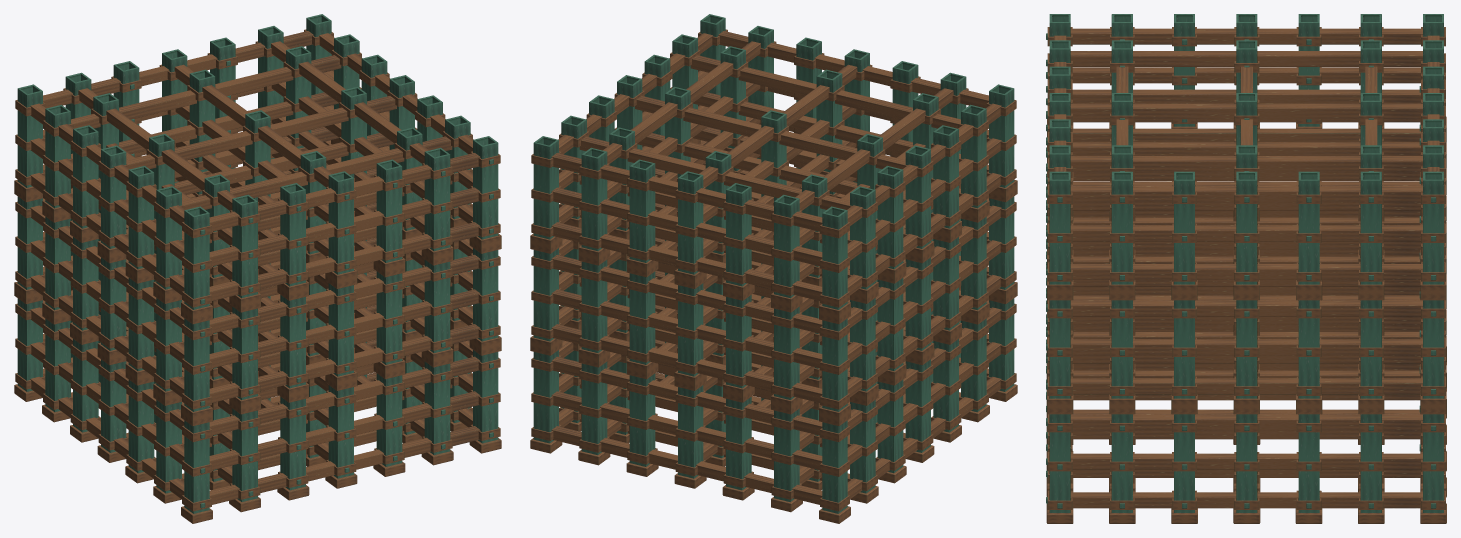
3 views of the same model, side by side, from view 1: azimuth 30°, elevation 25°; view 2: azimuth 150°, elevation 25°; view 3: azimuth 270°, elevation 25° (orthographic). The views are drawn at different scales.
Visible parts, largest first — view 1: Tier 2 internal tie 0-0-0-0.84, Tier 2 internal tie 0-0.56-0-0.84, Tier 2 internal tie 0--0.56-0-0.84, Tier 2 tie 0-0-0.84, Tier 0 tie 0-0-0.5, Tier 1 tie 0-0-0.5, Tier 2 tie 0-0-0.16, Tier 2 tie 0-0-0.5, Tier 1 tie 0-0-0.16, Tier 0 tie 0-0-0.16, Tier 0 tie 0-0-0.84, Tier 1 tie 0-0-0.84 (+86 smaller); view 2: Tier 2 internal tie 0-0-0-0.84, Tier 2 internal tie 0--0.56-0-0.84, Tier 2 internal tie 0-0.56-0-0.84, Tier 2 tie 2-0-0.84, Tier 0 tie 2-0-0.5, Tier 1 tie 2-0-0.5, Tier 2 tie 2-0-0.16, Tier 2 tie 2-0-0.5, Tier 1 tie 2-0-0.16, Tier 0 tie 2-0-0.16, Tier 0 tie 2-0-0.84, Tier 1 tie 2-0-0.84 (+86 smaller); view 3: Tier 2 internal tie 1-0-0-0.84, Tier 2 internal tie 1-0.56-0-0.84, Tier 2 internal tie 1--0.56-0-0.84, Tier 2 internal tie 1--0.56-0-0.5, Tier 2 internal tie 1--0.56-0-0.16, Tier 0 tie 1-0-0.5, Tier 0 tie 1-0-0.84, Tier 1 tie 1-0-0.84, Tier 2 tie 3-0-0.84, Tier 0 tie 1-0-0.16, Tier 1 tie 1-0-0.5, Tier 2 tie 1-0-0.84 (+91 smaller).
Part boxes in pixels (bbox=[...]): Tier 2 internal tie 0-0-0-0.84: bbox=[126, 96, 396, 169]; Tier 2 internal tie 0-0.56-0-0.84: bbox=[71, 55, 341, 128]; Tier 2 internal tie 0--0.56-0-0.84: bbox=[182, 136, 452, 209]; Tier 2 tie 0-0-0.84: bbox=[209, 153, 480, 231]; Tier 0 tie 0-0-0.5: bbox=[209, 391, 480, 470]; Tier 1 tie 0-0-0.5: bbox=[209, 289, 480, 368]; Tier 2 tie 0-0-0.16: bbox=[209, 222, 480, 300]; Tier 2 tie 0-0-0.5: bbox=[209, 187, 480, 266]; Tier 1 tie 0-0-0.16: bbox=[209, 324, 480, 402]; Tier 0 tie 0-0-0.16: bbox=[209, 426, 480, 504]; Tier 0 tie 0-0-0.84: bbox=[209, 356, 480, 435]; Tier 1 tie 0-0-0.84: bbox=[209, 254, 480, 333]; Tier 2 internal tie 0-0-0-0.84: bbox=[635, 96, 905, 169]; Tier 2 internal tie 0--0.56-0-0.84: bbox=[690, 55, 960, 128]; Tier 2 internal tie 0-0.56-0-0.84: bbox=[579, 136, 849, 209]; Tier 2 tie 2-0-0.84: bbox=[551, 153, 822, 231]; Tier 0 tie 2-0-0.5: bbox=[551, 391, 822, 470]; Tier 1 tie 2-0-0.5: bbox=[551, 289, 822, 368]; Tier 2 tie 2-0-0.16: bbox=[551, 222, 822, 300]; Tier 2 tie 2-0-0.5: bbox=[551, 187, 822, 266]; Tier 1 tie 2-0-0.16: bbox=[551, 324, 822, 402]; Tier 0 tie 2-0-0.16: bbox=[551, 426, 822, 504]; Tier 0 tie 2-0-0.84: bbox=[551, 356, 822, 435]; Tier 1 tie 2-0-0.84: bbox=[551, 254, 822, 333]; Tier 2 internal tie 1-0-0-0.84: bbox=[1070, 103, 1422, 119]; Tier 2 internal tie 1-0.56-0-0.84: bbox=[1070, 156, 1422, 171]; Tier 2 internal tie 1--0.56-0-0.84: bbox=[1070, 51, 1422, 66]; Tier 2 internal tie 1--0.56-0-0.5: bbox=[1070, 89, 1422, 103]; Tier 2 internal tie 1--0.56-0-0.16: bbox=[1072, 128, 1420, 142]; Tier 0 tie 1-0-0.5: bbox=[1070, 453, 1422, 469]; Tier 0 tie 1-0-0.84: bbox=[1070, 414, 1422, 430]; Tier 1 tie 1-0-0.84: bbox=[1070, 300, 1422, 316]; Tier 2 tie 3-0-0.84: bbox=[1070, 28, 1422, 44]; Tier 0 tie 1-0-0.16: bbox=[1070, 492, 1422, 508]; Tier 1 tie 1-0-0.5: bbox=[1070, 339, 1422, 355]; Tier 2 tie 1-0-0.84: bbox=[1070, 186, 1422, 202].
Size of the model in its own units: 1.8 by 1.7 by 1.8.
2 materials, 2 textured.
